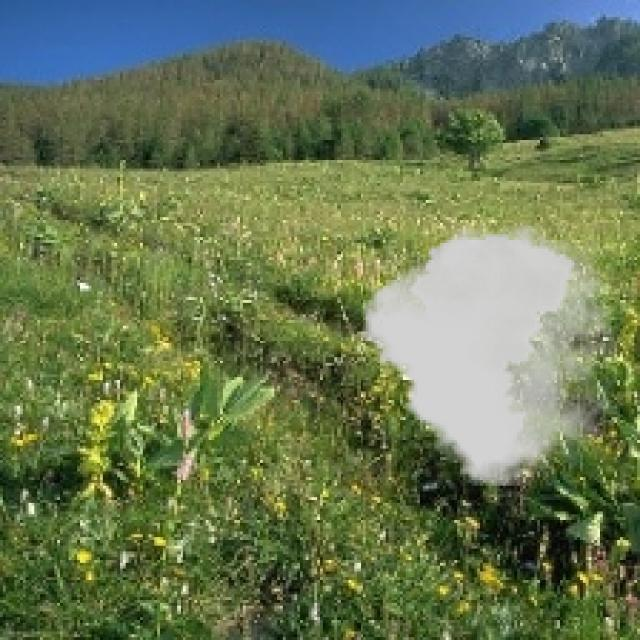Smoke: (363, 223, 611, 486)
